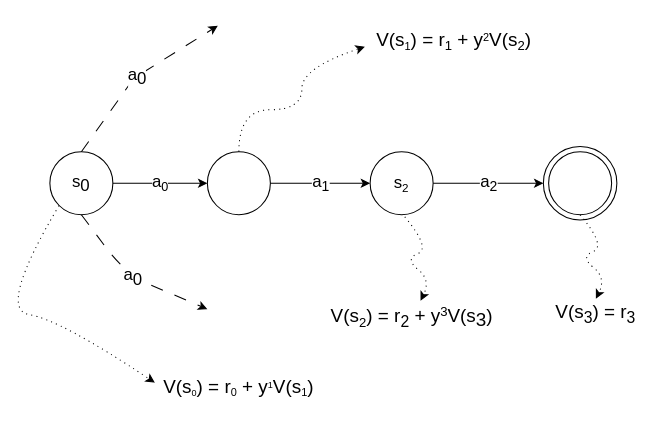
Some shapes in this 667 by 422 pixel diagram are drawn without their labels. Each missing label, with the box of its shape:
s 1: (206, 151, 270, 215)
s 3: (548, 151, 612, 215)
